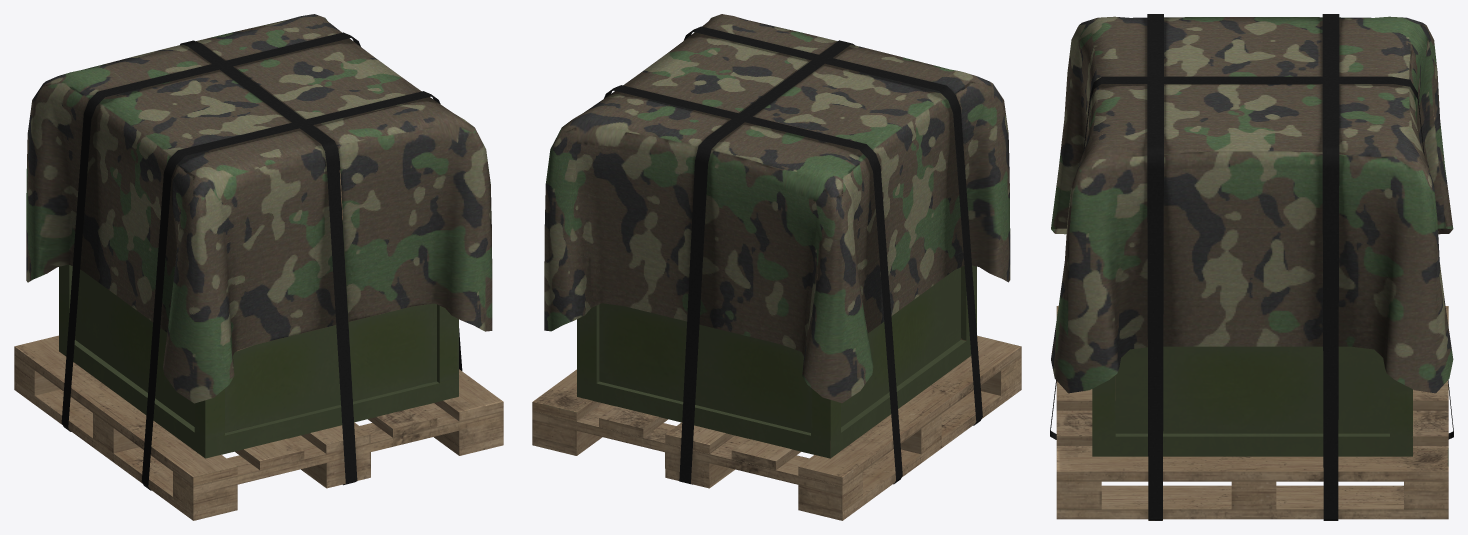
The model's file is Airdrop.fbx.
The picture shows the model from 3 angles, left to right: view 1: azimuth 30°, elevation 25°; view 2: azimuth 150°, elevation 25°; view 3: azimuth 270°, elevation 25°; orthographic projection. The views are drawn at different scales.
Visible parts, largest first — view 1: supplydrop; view 2: supplydrop; view 3: supplydrop.
Part boxes in pixels (left/top/right/bottom): supplydrop: left=14, top=14, right=503, bottom=520; supplydrop: left=532, top=14, right=1021, bottom=520; supplydrop: left=1050, top=14, right=1453, bottom=520.
Size of the model in its own units: 65.55 by 64.15 by 65.35.
